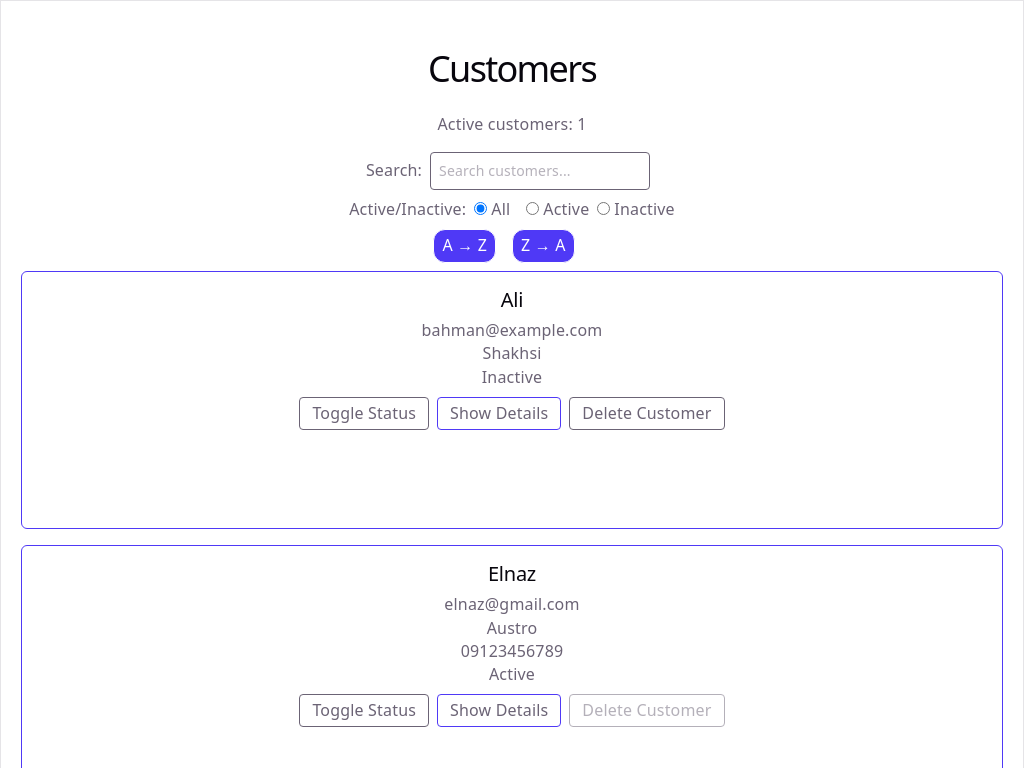
Test: should filter inactive customer
The image size is (1024, 768).
Expected: the heading "Ali" is shown, top-left (501, 286), bottom-right (523, 313)
Click the radio button labelled "Inactive". click: (604, 209)
box: top-left (597, 202), bottom-right (610, 215)
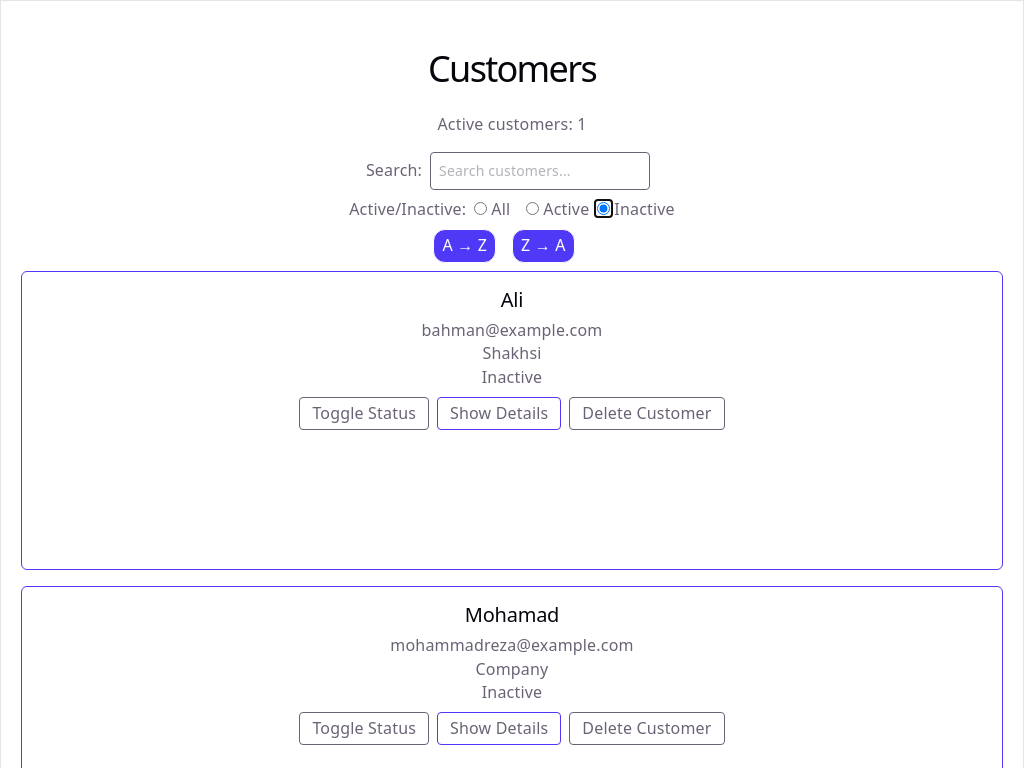
Expected: the heading "Ali" is shown, top-left (501, 286), bottom-right (523, 313)
Result: the heading "Elnaz" is gone
